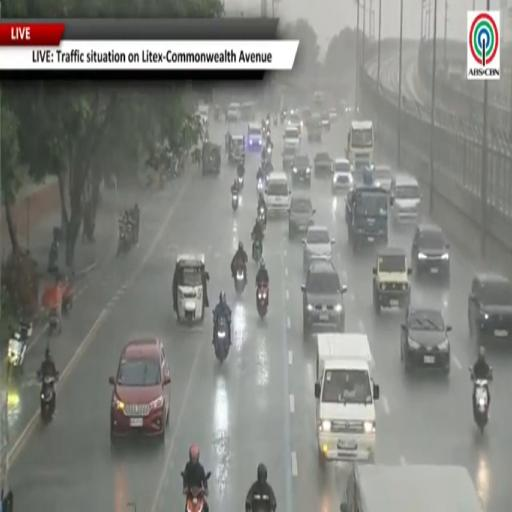car: (110, 339, 170, 442), (301, 261, 347, 337), (401, 308, 451, 375), (468, 274, 511, 344), (373, 248, 411, 313), (411, 223, 449, 280), (390, 174, 421, 222), (303, 226, 334, 273), (289, 196, 315, 238), (332, 158, 353, 194), (292, 154, 311, 186), (314, 151, 332, 176), (375, 166, 392, 191), (282, 144, 297, 172), (306, 116, 321, 141), (287, 109, 303, 129), (227, 103, 241, 122), (339, 101, 352, 115), (321, 112, 330, 131), (301, 107, 311, 124), (329, 107, 337, 121)
motorcycle: (470, 367, 492, 433), (7, 322, 32, 376), (38, 373, 58, 423), (214, 317, 230, 363), (185, 487, 206, 511), (256, 283, 268, 319), (117, 227, 130, 257), (48, 309, 61, 337), (251, 494, 272, 511), (48, 239, 58, 273), (234, 266, 245, 294), (252, 240, 262, 263), (257, 205, 266, 229), (232, 191, 239, 211), (257, 179, 264, 194), (237, 175, 244, 189), (280, 111, 286, 124), (265, 127, 270, 140), (274, 116, 278, 125)
truck: (315, 333, 379, 461), (340, 464, 483, 511), (345, 186, 388, 251), (346, 121, 374, 182)
